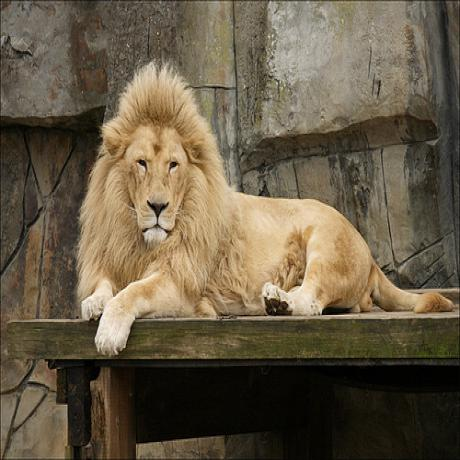Lion: (77, 56, 454, 354)
